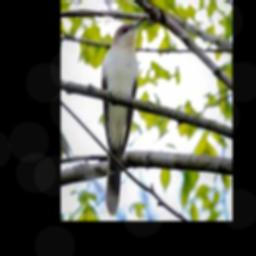Cuckoo: (102, 20, 144, 215)
